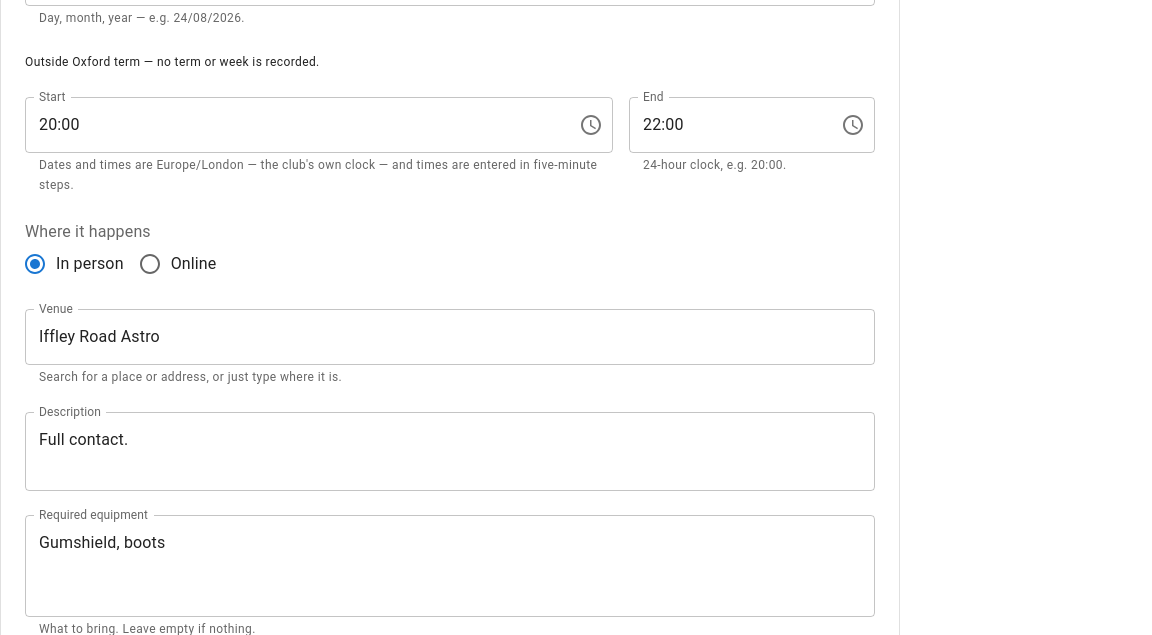
Test case: where the one tick starts › is on for a venue change, and the button says who it notifies
(page scrolled)
Replace the text in the dropdown labelled "Venue" with "University Parks". click: [435, 337]
box: x1=34 y1=318 x2=836 y2=356
(page scrolled)
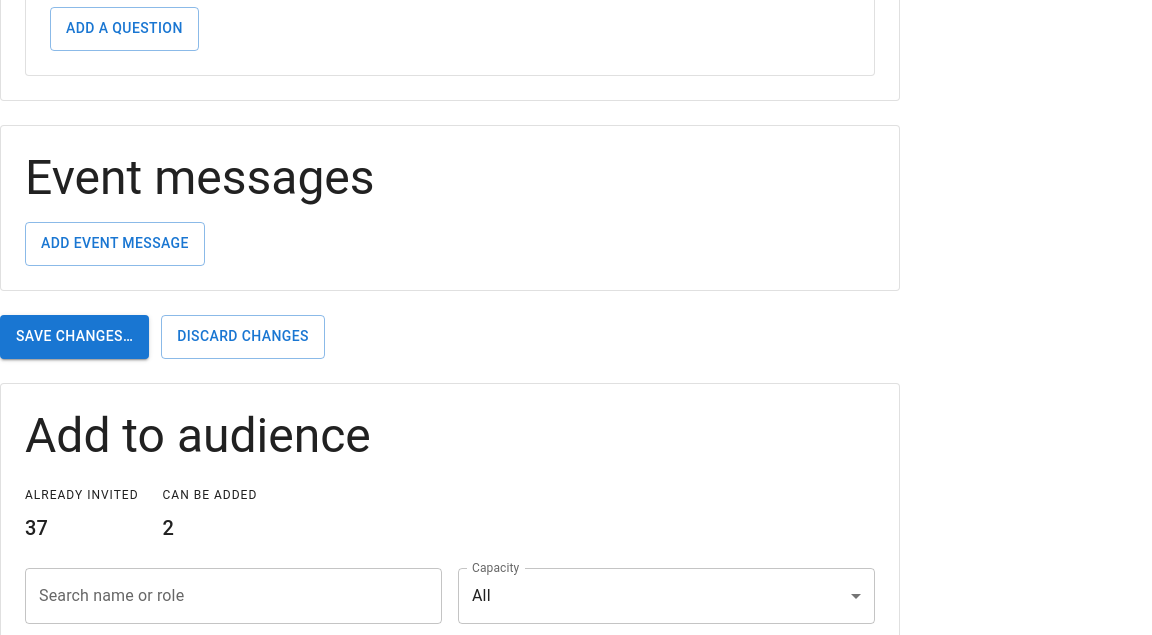
Click the button with test id "continue-to-review". click: [75, 337]
box: x1=0 y1=315 x2=149 y2=359
(page scrolled)
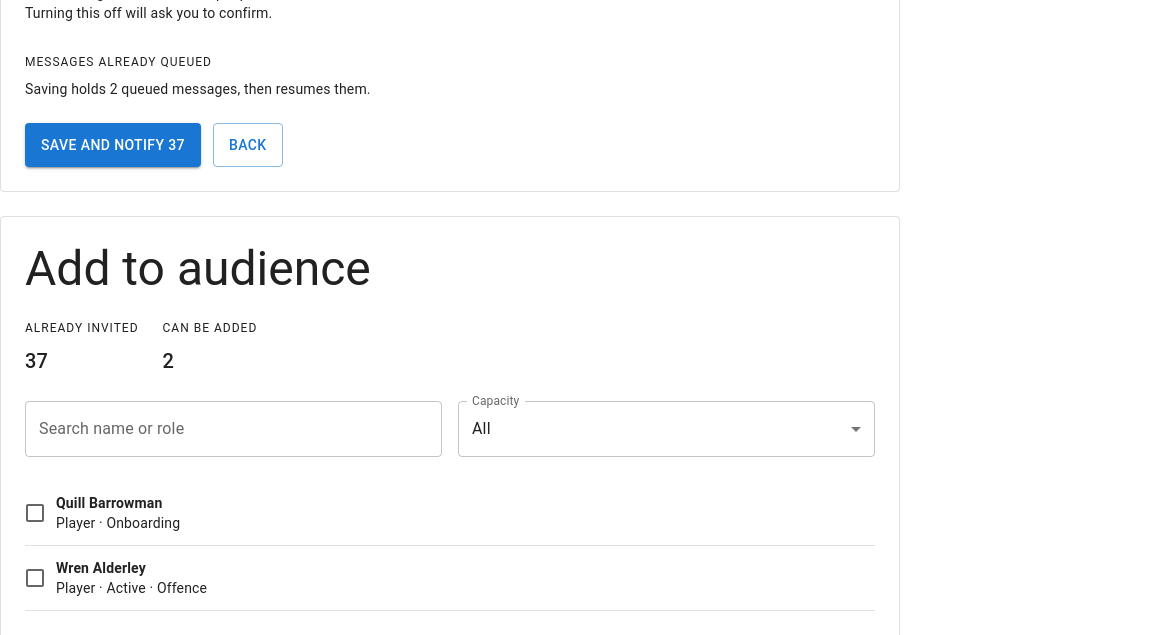
Check: the button with test id "save-amendment" reads "Save and notify 37", box x1=25 y1=123 x2=201 y2=167
